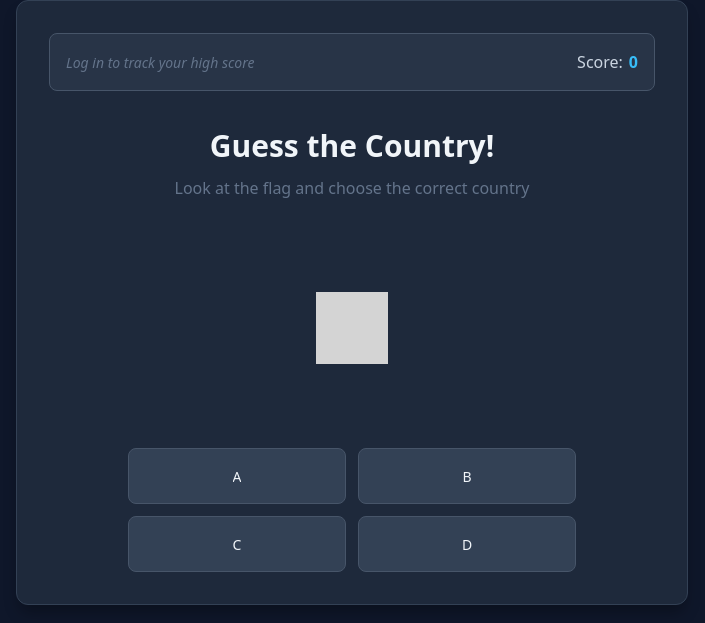
Test case: GameBoard error/recovery paths › discards stale session on 404 from /game/answer
Click the button with class "answer-btn" showing "A": (237, 476) [128,448,346,504]
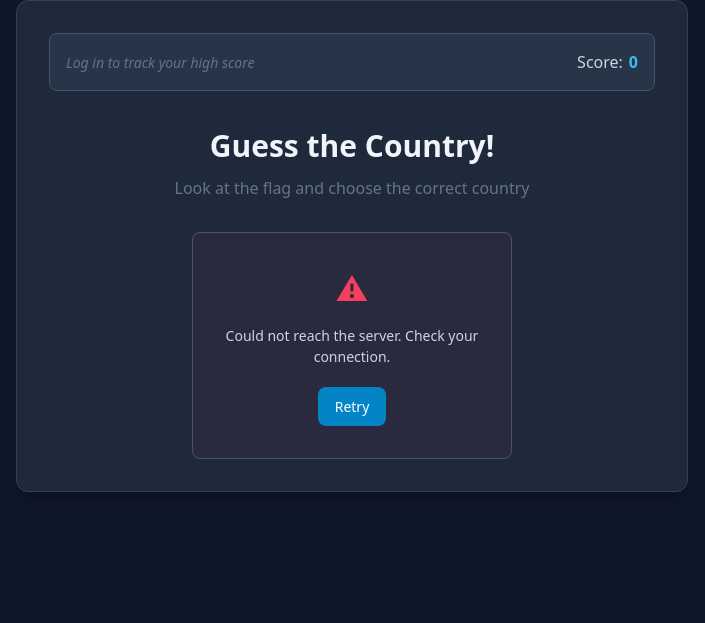
Result: the element with class "load-error" is shown at [192,232,512,459]
